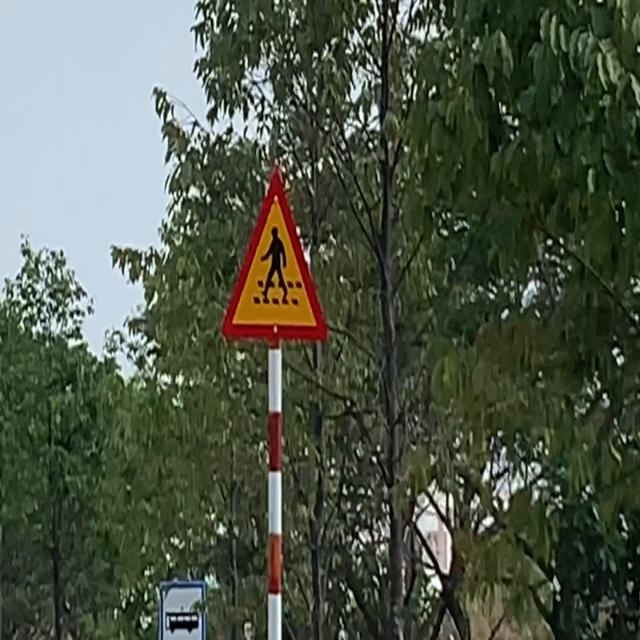bien_nguy_hiem: (220, 169, 328, 343), (158, 579, 206, 640)
